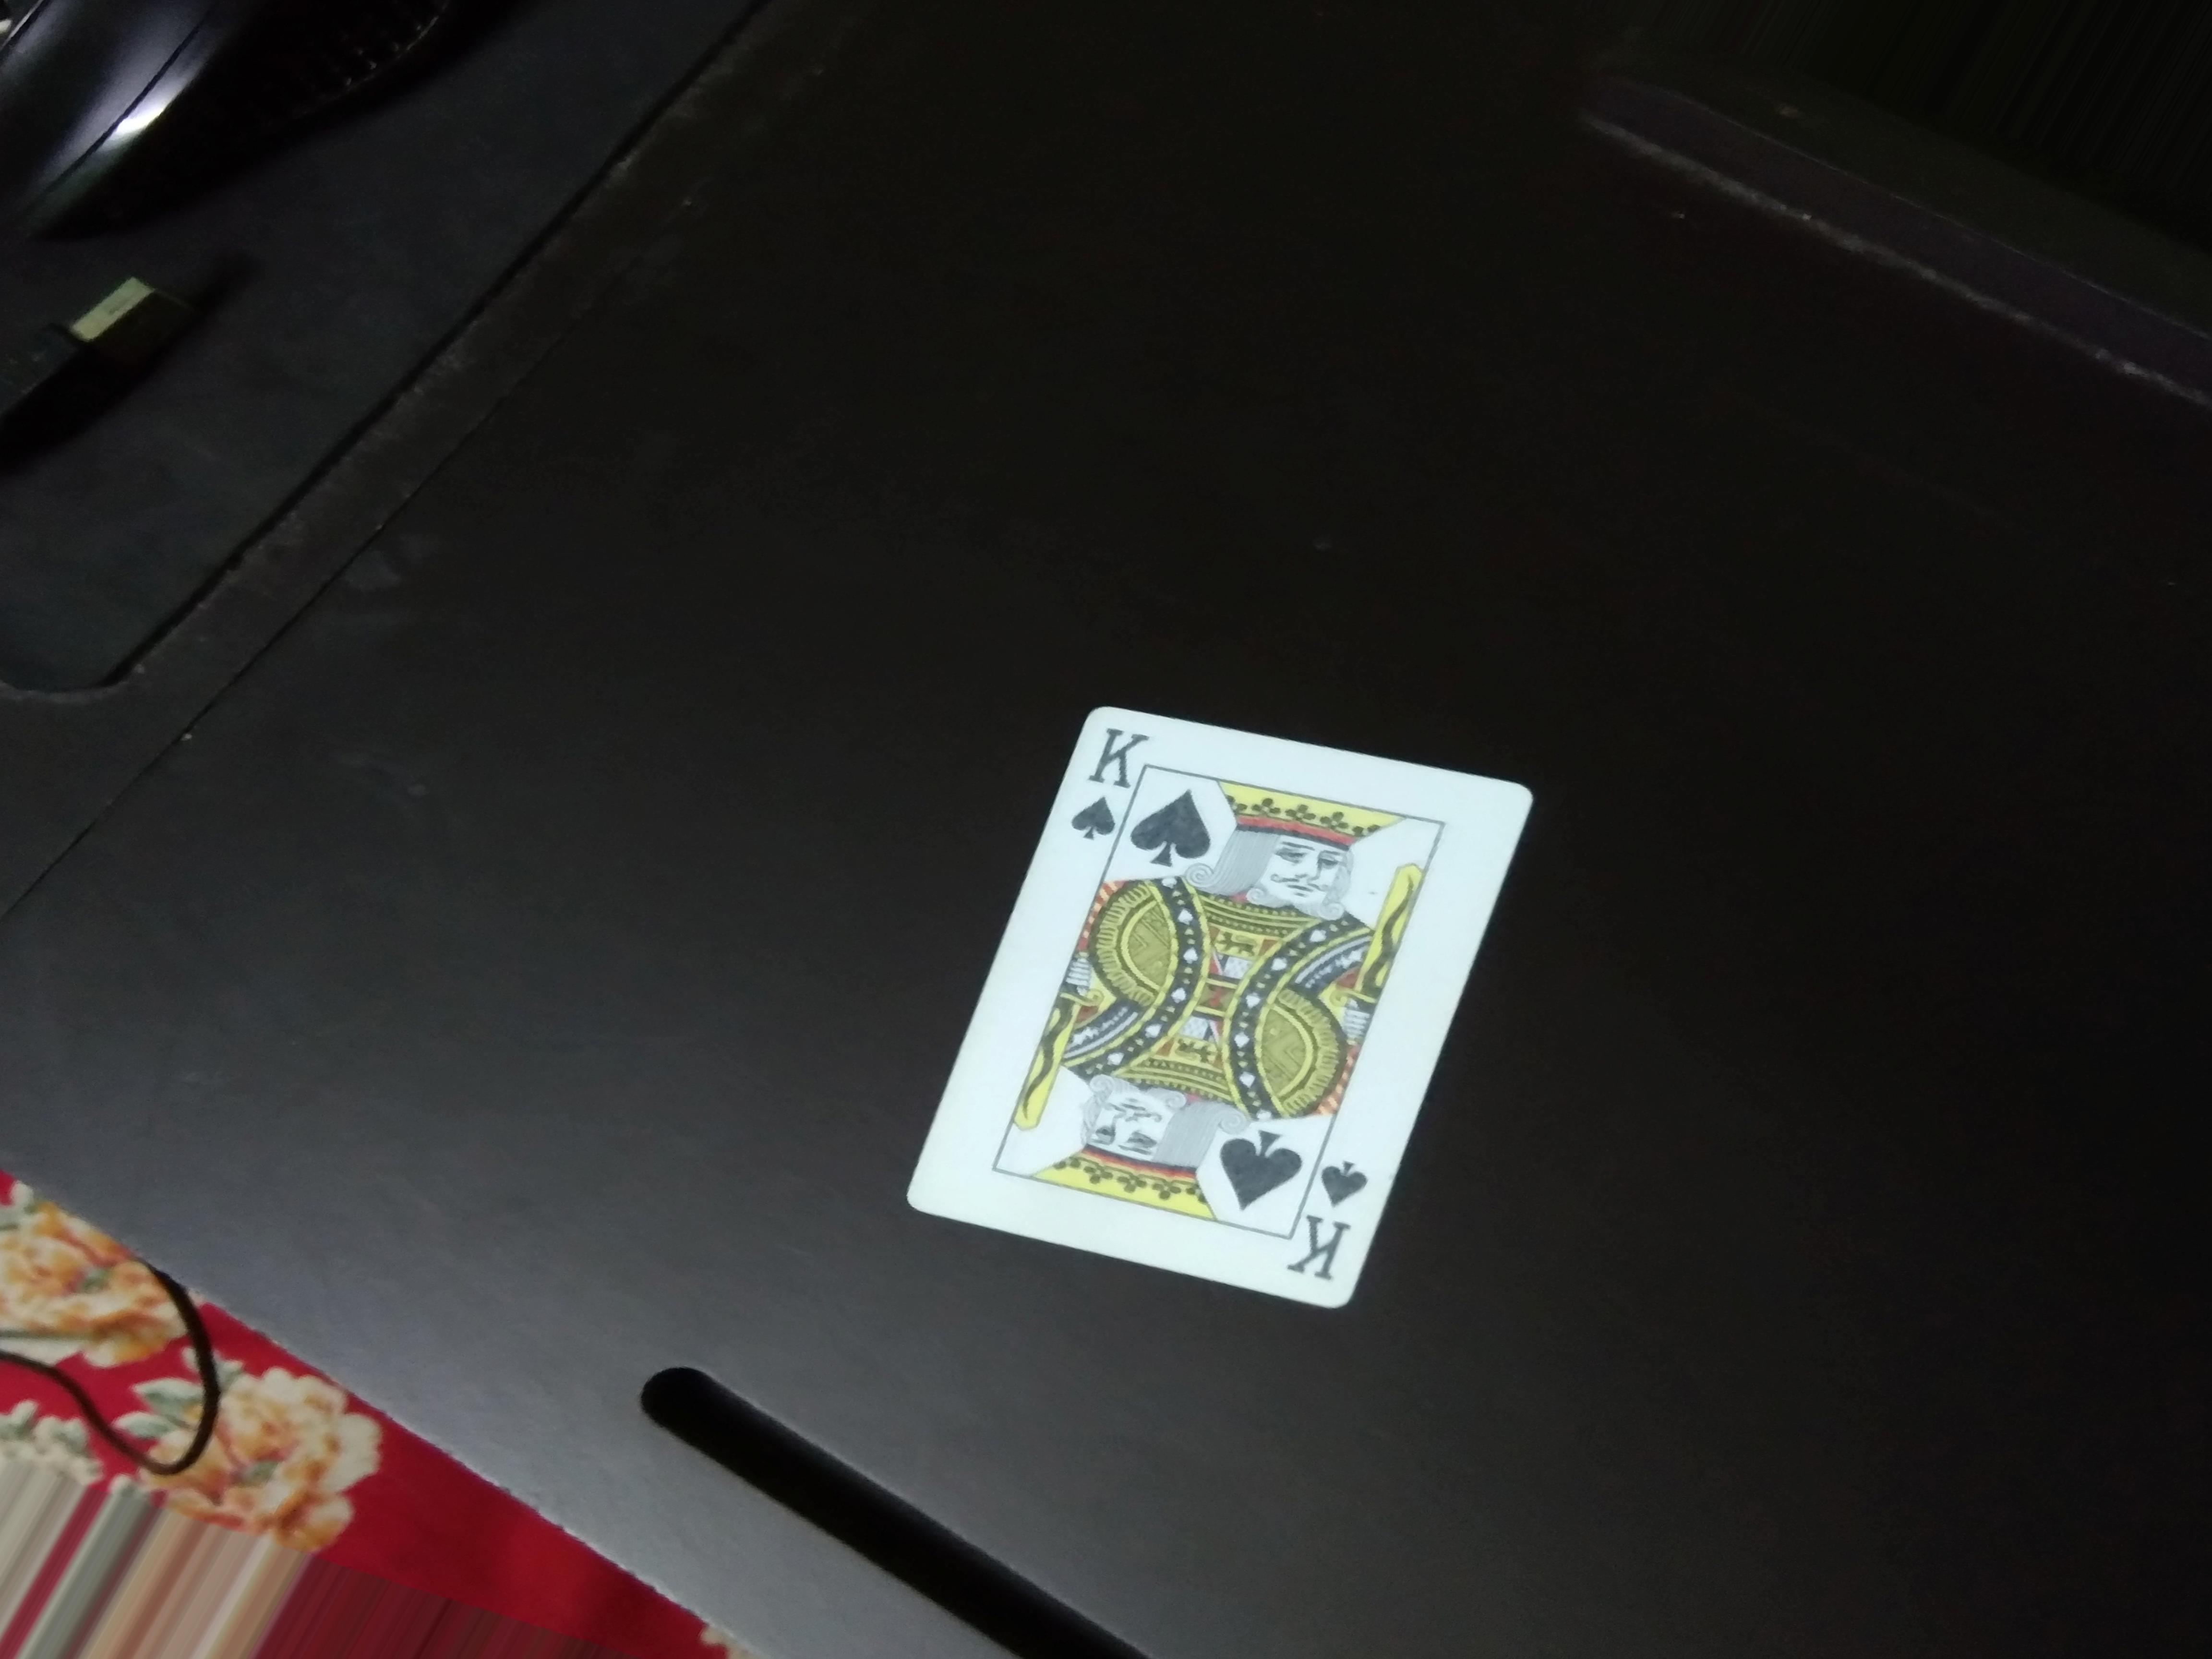KS: (1073, 709, 1153, 847)
